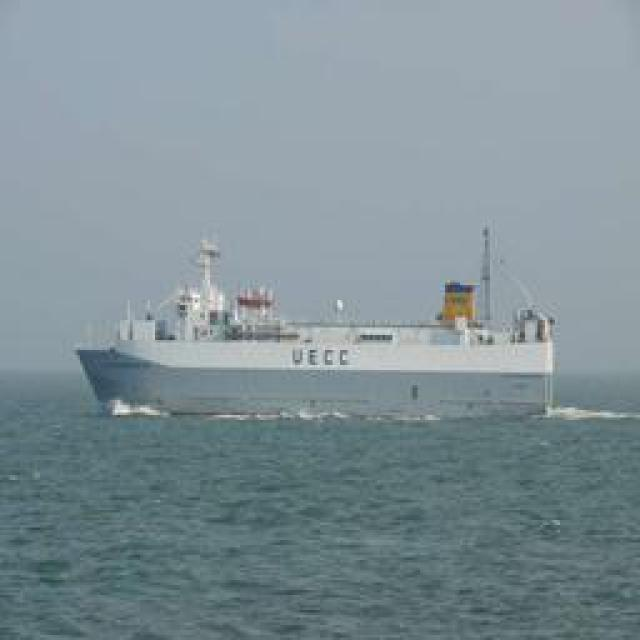Ship: (80, 225, 565, 415)
